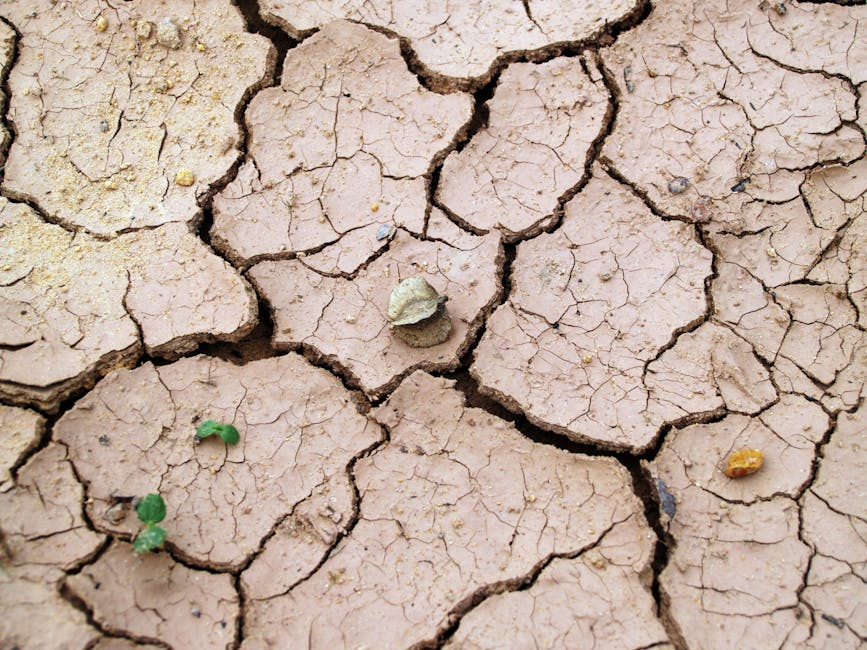深大裂缝: (26, 303, 256, 398), (431, 365, 628, 460), (382, 27, 626, 80)
细微裂纹: (16, 177, 169, 245), (312, 414, 370, 592)
网状裂隙: (686, 200, 829, 612)
